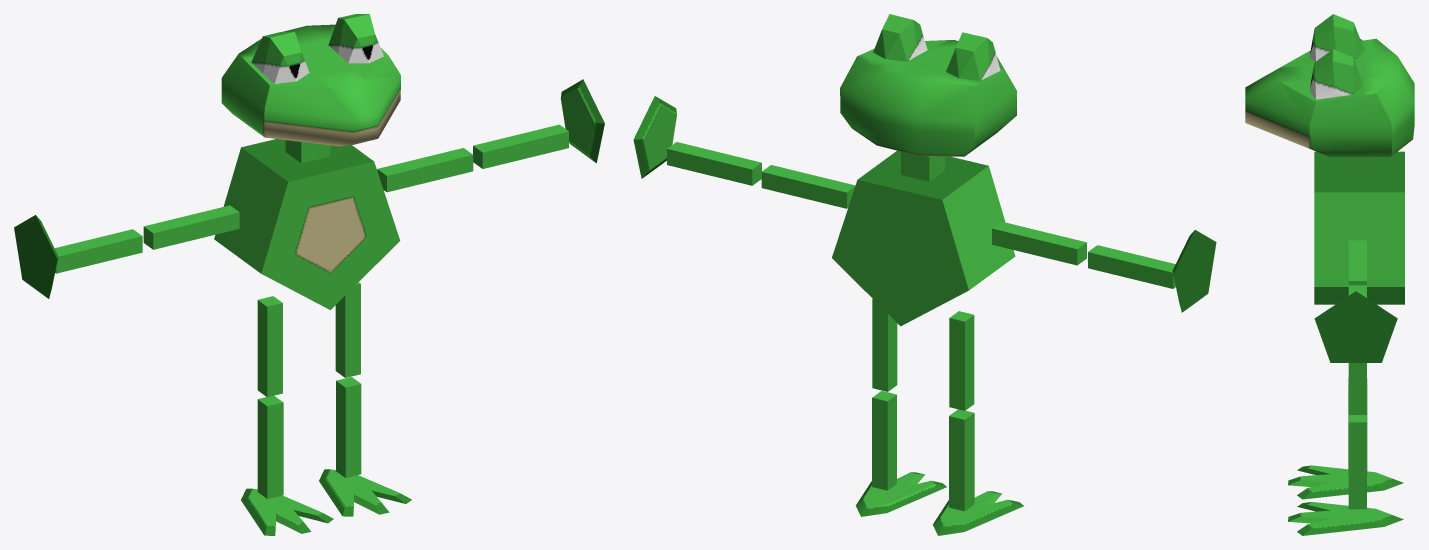
Rendered from separated frog.fbx.
3 renders of one model, left to right at view 1: azimuth 30°, elevation 25°; view 2: azimuth 150°, elevation 25°; view 3: azimuth 270°, elevation 25°, orthographic. The views are drawn at different scales.
Parts seen in each view (by area): view 1: polySurface29, polySurface5, polySurface21, polySurface19, polySurface25, polySurface13, polySurface9, polySurface11, polySurface17, polySurface7, polySurface27, polySurface15 (+2 smaller); view 2: polySurface29, polySurface5, polySurface21, polySurface19, polySurface13, polySurface9, polySurface25, polySurface17, polySurface11, polySurface7, polySurface15, polySurface23 (+2 smaller); view 3: polySurface5, polySurface29, polySurface7, polySurface27, polySurface30, polySurface25, polySurface23, polySurface11, polySurface21.
Boxes of the visible parts, x1,y1,x2,y2 form: polySurface29: [214, 139, 400, 309]; polySurface5: [221, 14, 400, 146]; polySurface21: [257, 395, 283, 498]; polySurface19: [257, 296, 282, 397]; polySurface25: [336, 377, 361, 477]; polySurface13: [143, 205, 239, 249]; polySurface9: [473, 124, 568, 168]; polySurface11: [377, 148, 473, 192]; polySurface17: [14, 215, 58, 298]; polySurface7: [560, 79, 604, 163]; polySurface27: [319, 469, 411, 516]; polySurface15: [55, 229, 142, 273]; polySurface29: [832, 150, 1015, 326]; polySurface5: [840, 14, 1016, 156]; polySurface21: [949, 409, 974, 511]; polySurface19: [949, 311, 974, 410]; polySurface13: [992, 221, 1086, 265]; polySurface9: [667, 142, 761, 185]; polySurface25: [872, 391, 896, 490]; polySurface17: [1172, 230, 1216, 312]; polySurface11: [761, 165, 855, 208]; polySurface7: [633, 96, 676, 178]; polySurface15: [1088, 245, 1175, 288]; polySurface23: [872, 299, 897, 391]; polySurface5: [1245, 14, 1414, 156]; polySurface29: [1314, 151, 1404, 304]; polySurface7: [1314, 291, 1397, 362]; polySurface27: [1288, 502, 1403, 535]; polySurface30: [1288, 465, 1403, 499]; polySurface25: [1348, 415, 1366, 509]; polySurface23: [1348, 363, 1366, 412]; polySurface11: [1348, 240, 1366, 285]; polySurface21: [1348, 378, 1367, 474].
Bounding box in the file's own units: 1.34 × 1.12 × 0.372.
1 material, 1 textured.
